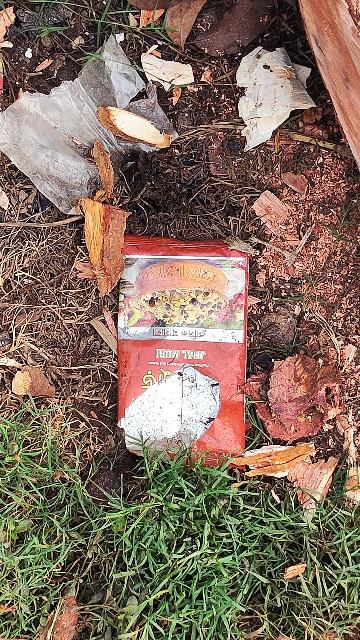packet: (128, 236, 251, 453)
